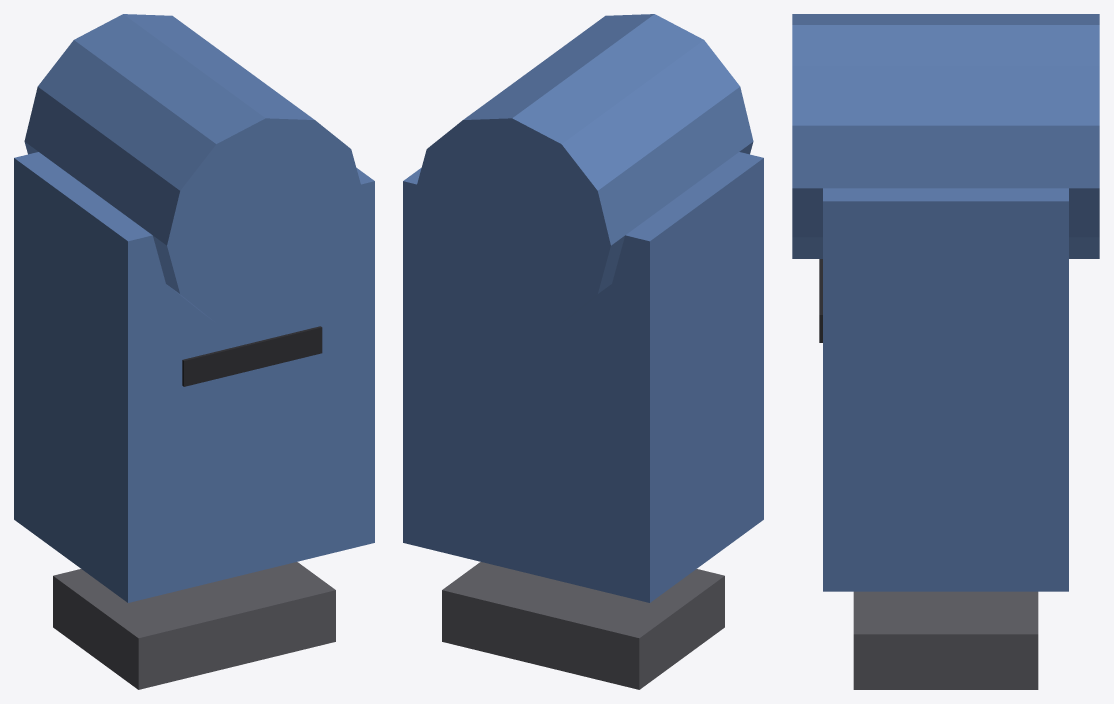
File: caixa_correio.glb
3 renders of one model, left to right at view 1: azimuth 30°, elevation 25°; view 2: azimuth 150°, elevation 25°; view 3: azimuth 270°, elevation 25°, orthographic. The views are drawn at different scales.
Parts seen in each view (by area): view 1: caixa_correio; view 2: caixa_correio; view 3: caixa_correio.
Boxes of the visible parts, left/top/right/bottom form: caixa_correio: left=14, top=14, right=374, bottom=689; caixa_correio: left=403, top=14, right=763, bottom=689; caixa_correio: left=792, top=14, right=1099, bottom=689.
Bounding box in the file's own units: 0.5 × 1.1 × 0.5.
